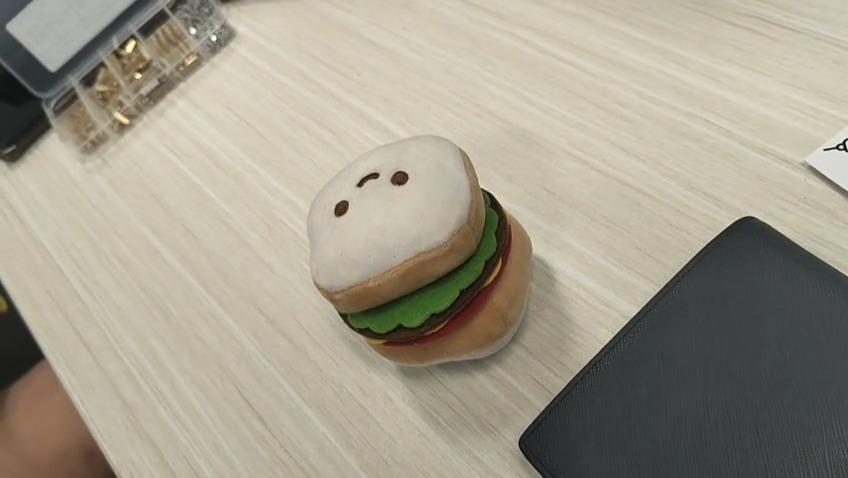objects: (301, 132, 533, 367)
